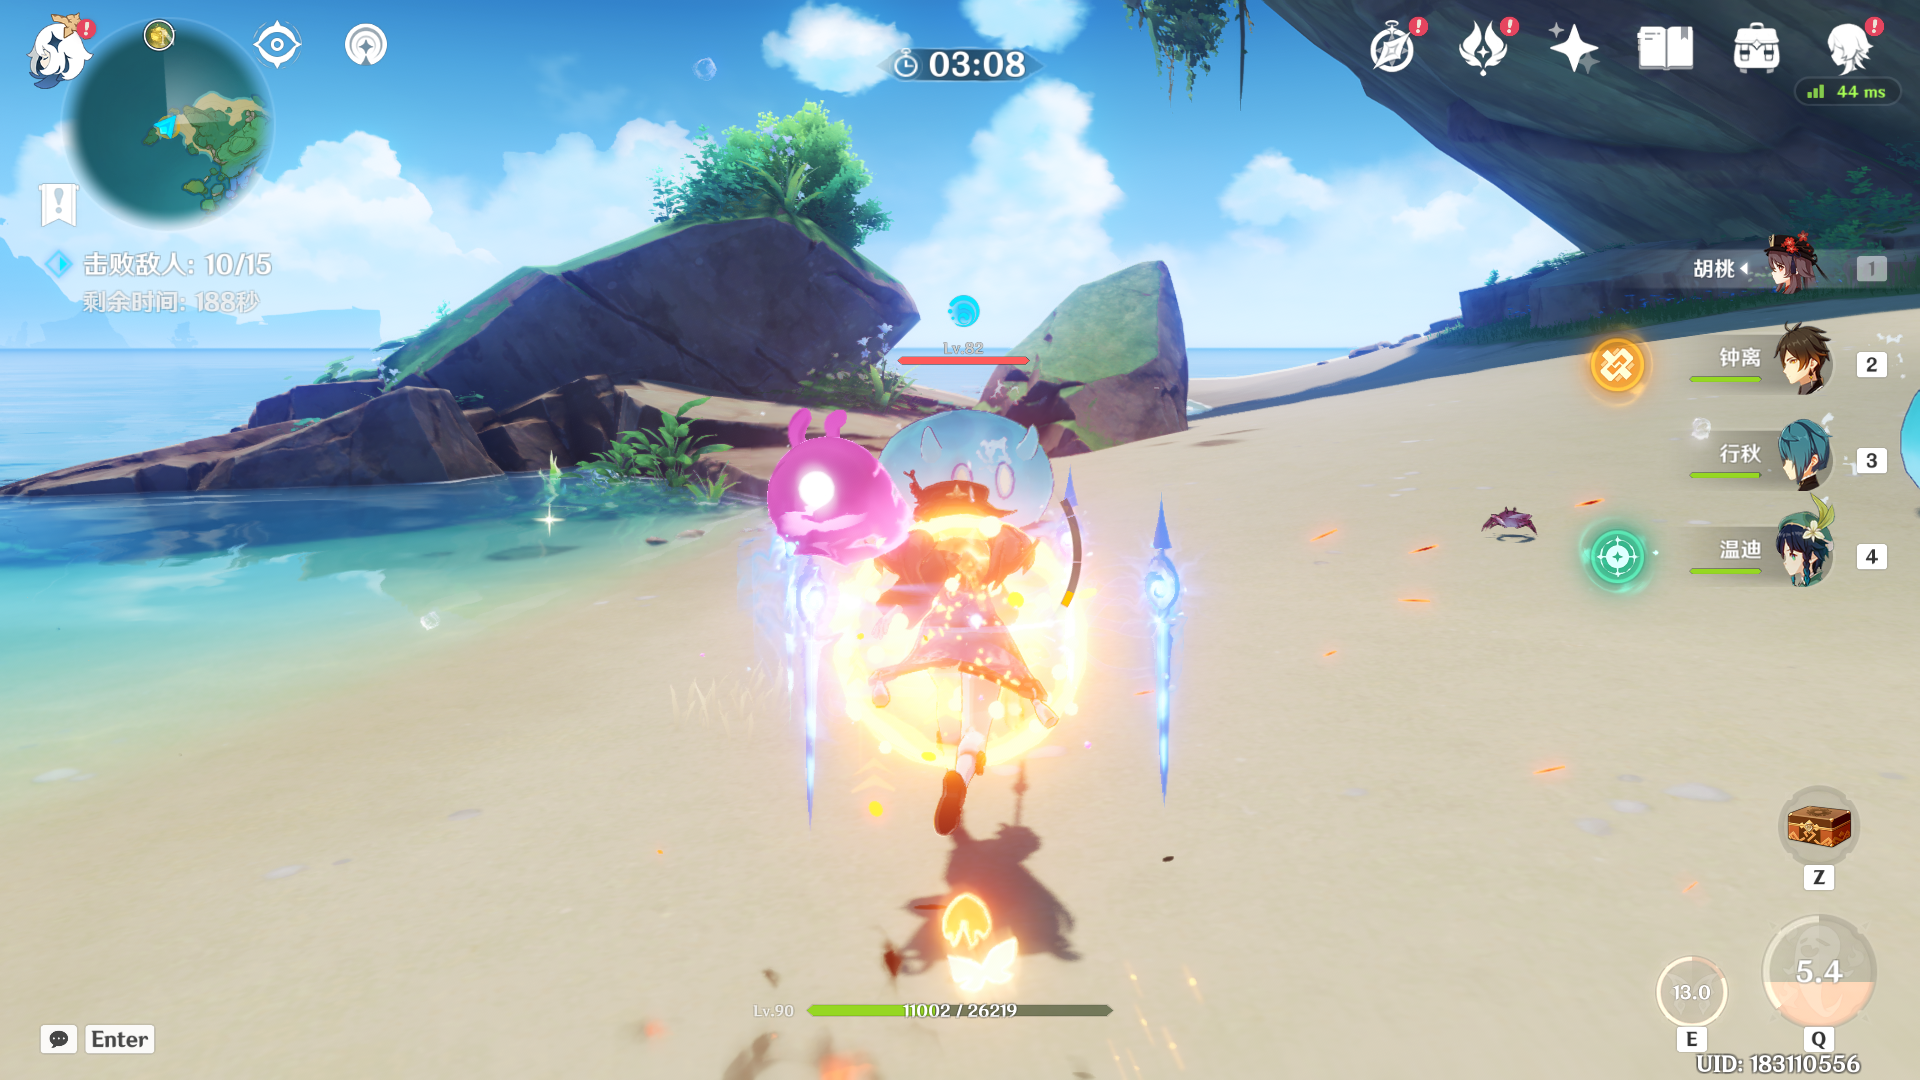character: (844, 456, 1127, 920)
slime: (814, 375, 1112, 538)
